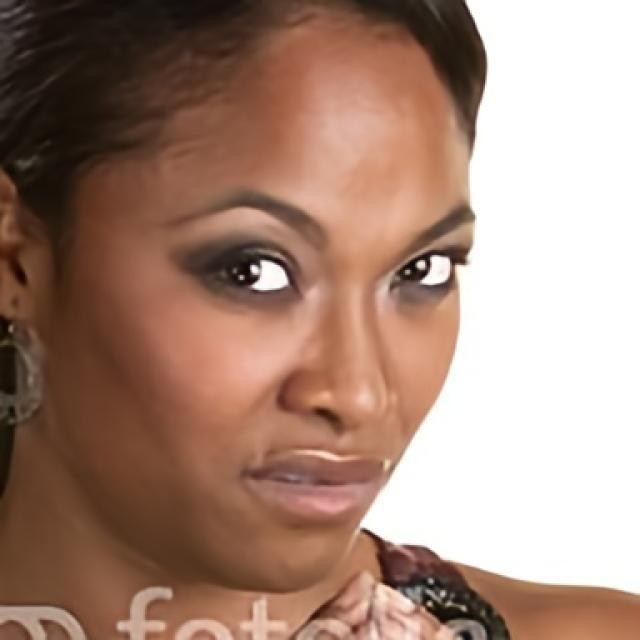disgust: (43, 0, 478, 595)
